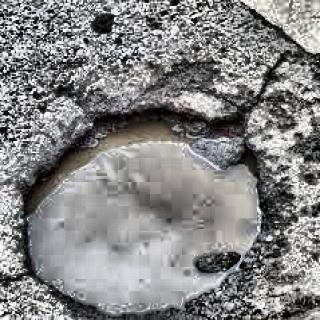pothole: (18, 98, 278, 320)
